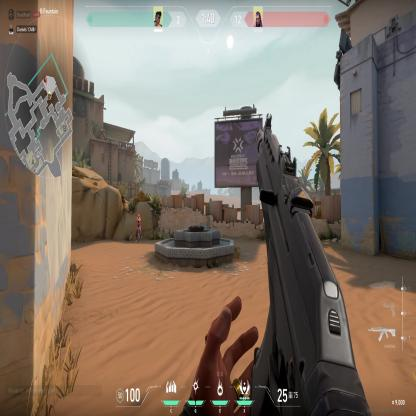enemy: (134, 211, 142, 244)
